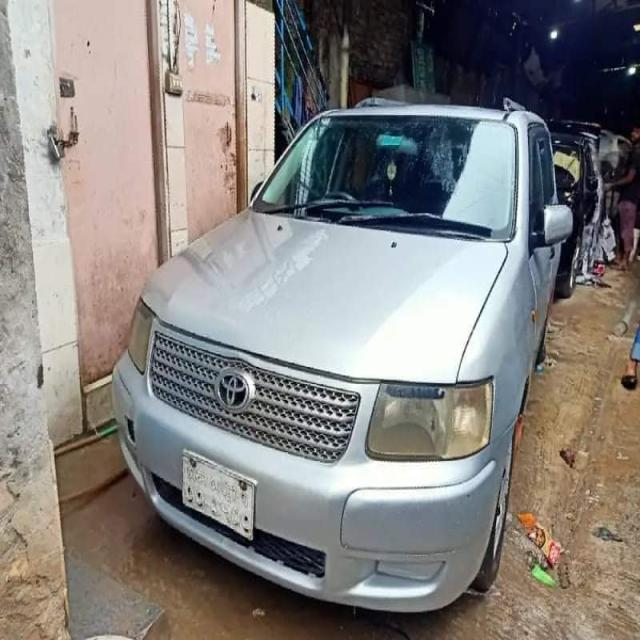silver: (98, 68, 598, 594)
